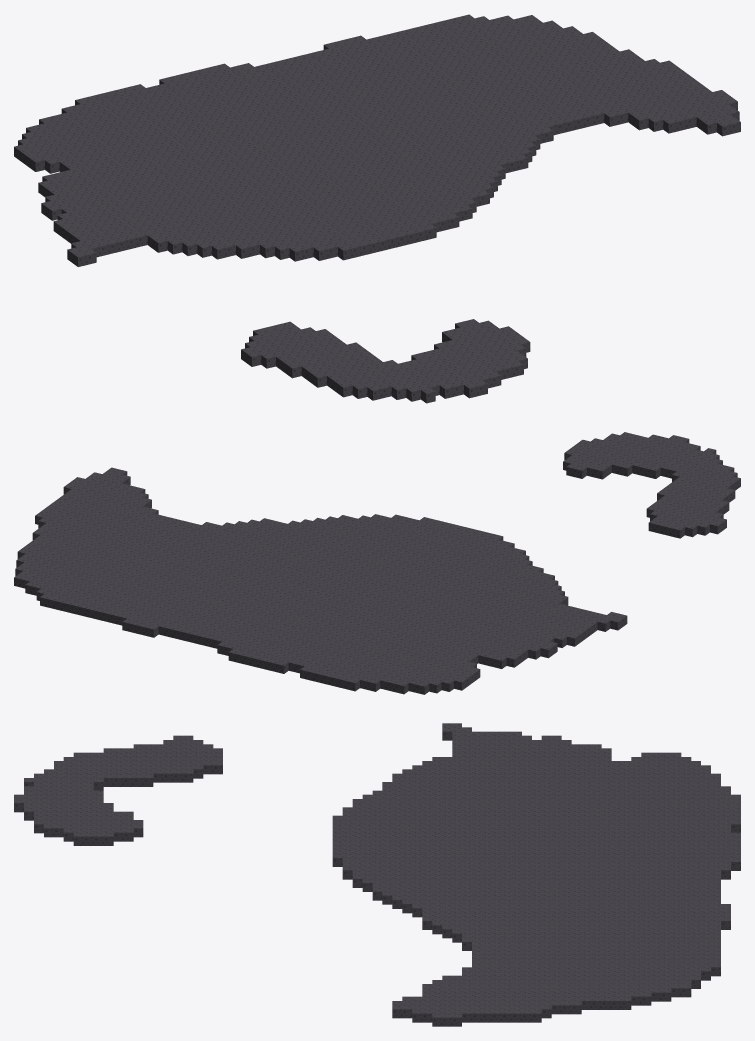
The model's file is Hub_upper_Elevation_1.fbx.
3 views of the same model, one above another, from view 1: azimuth 30°, elevation 25°; view 2: azimuth 150°, elevation 25°; view 3: azimuth 270°, elevation 25° (orthographic). The views are drawn at different scales.
Size of the model in its own units: 7000 by 100 by 7300.
